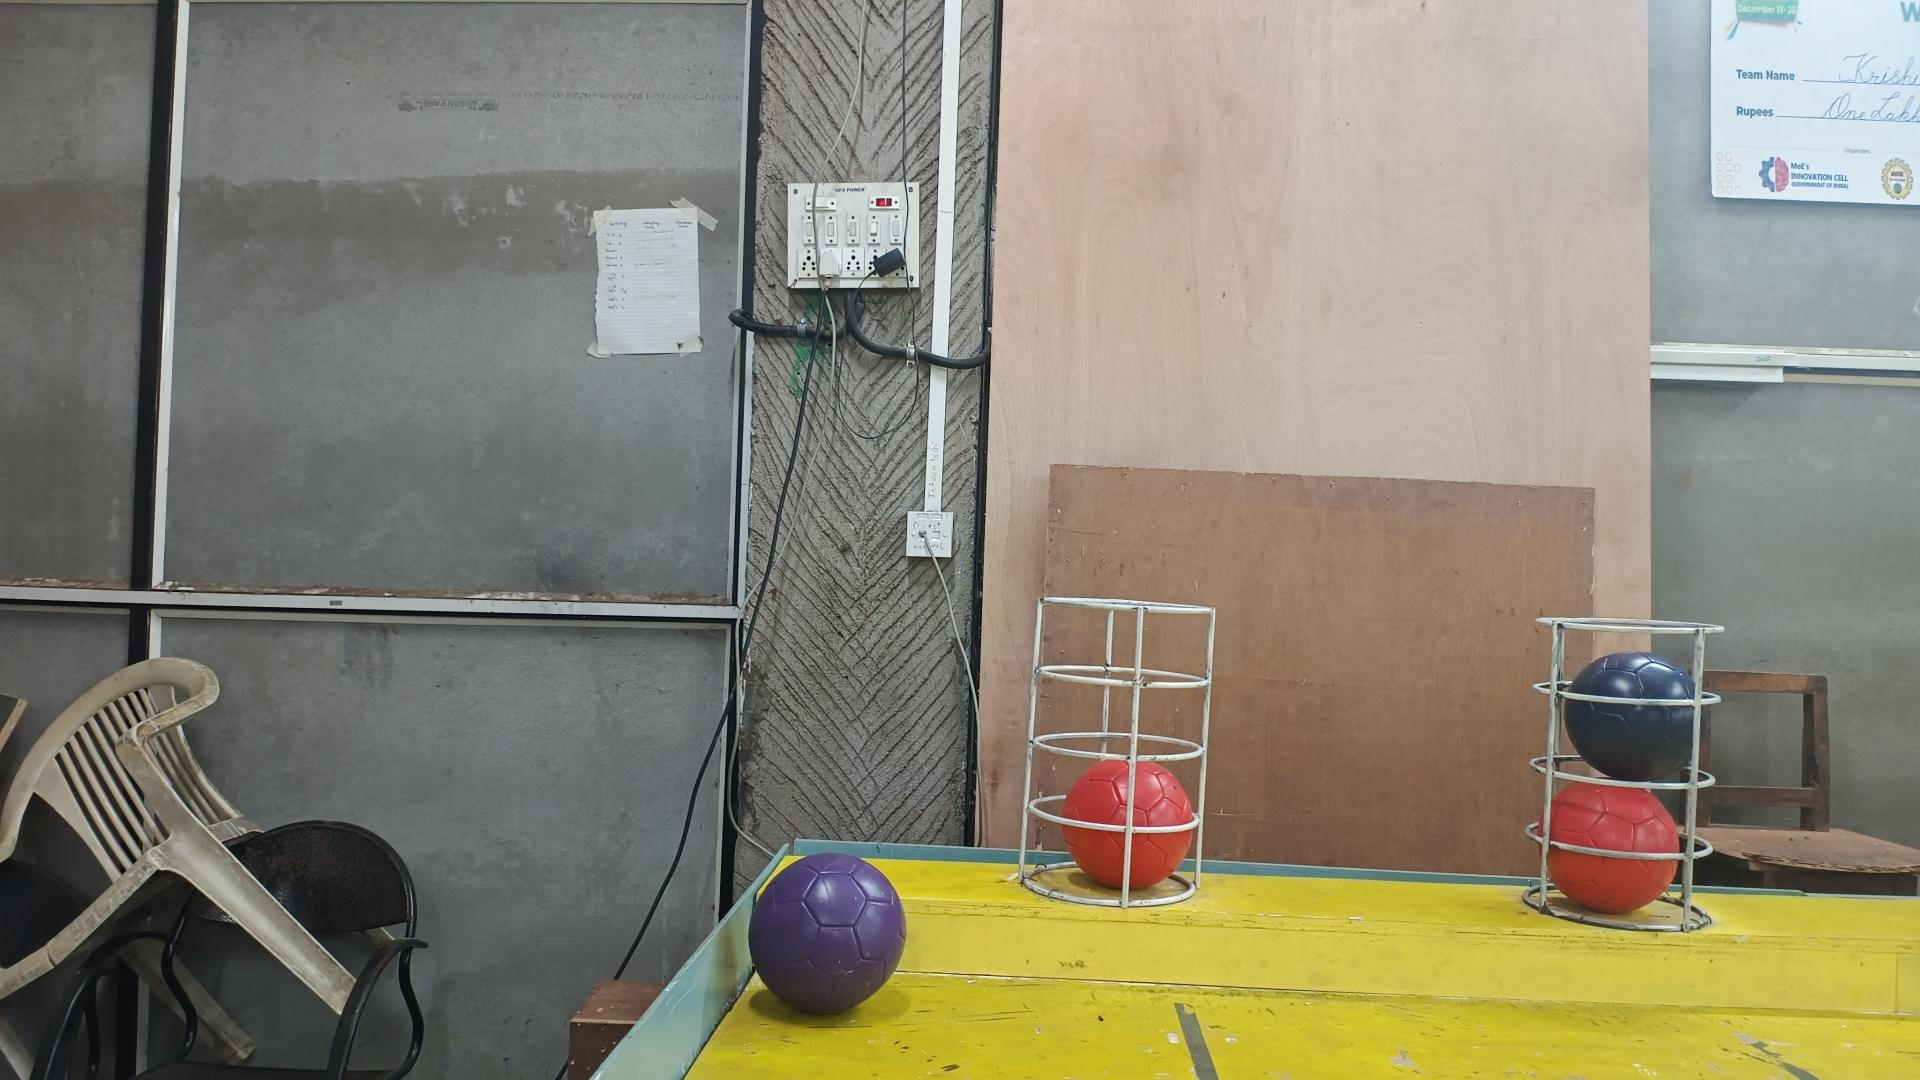dhoka: (1564, 653, 1695, 781)
laale: (1062, 757, 1192, 889), (1548, 783, 1680, 911)
